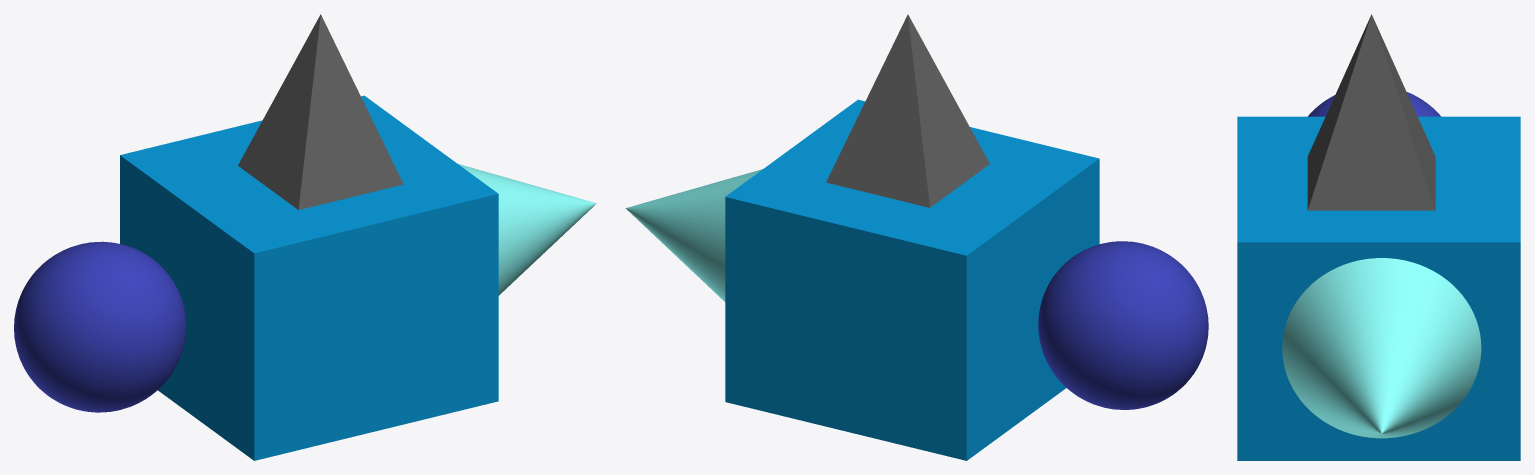
File: miobjecto2.glb
The picture shows the model from 3 angles, left to right: view 1: azimuth 30°, elevation 25°; view 2: azimuth 150°, elevation 25°; view 3: azimuth 270°, elevation 25°; orthographic projection. The views are drawn at different scales.
Visible parts, largest first — view 1: mesh_id27, mesh_id33, mesh_id29, mesh_id31; view 2: mesh_id27, mesh_id33, mesh_id29, mesh_id31; view 3: mesh_id27, mesh_id31, mesh_id29, mesh_id33.
Part boxes in pixels (x1=…): mesh_id27: x1=120, y1=95, x2=498, y2=460; mesh_id33: x1=14, y1=241, x2=186, y2=412; mesh_id29: x1=238, y1=14, x2=403, y2=209; mesh_id31: x1=458, y1=164, x2=596, y2=295; mesh_id27: x1=725, y1=99, x2=1099, y2=460; mesh_id33: x1=1038, y1=241, x2=1208, y2=409; mesh_id29: x1=826, y1=14, x2=989, y2=207; mesh_id31: x1=625, y1=169, x2=762, y2=301; mesh_id27: x1=1237, y1=116, x2=1520, y2=460; mesh_id31: x1=1282, y1=258, x2=1481, y2=438; mesh_id29: x1=1307, y1=14, x2=1435, y2=210; mesh_id33: x1=1308, y1=92, x2=1440, y2=116.
Size of the model in its own units: 0.5934 by 0.3632 by 0.24.
4 materials, 4 textured.
